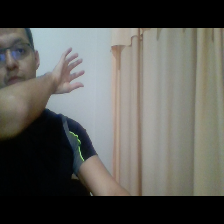left: (48, 42, 92, 96)
